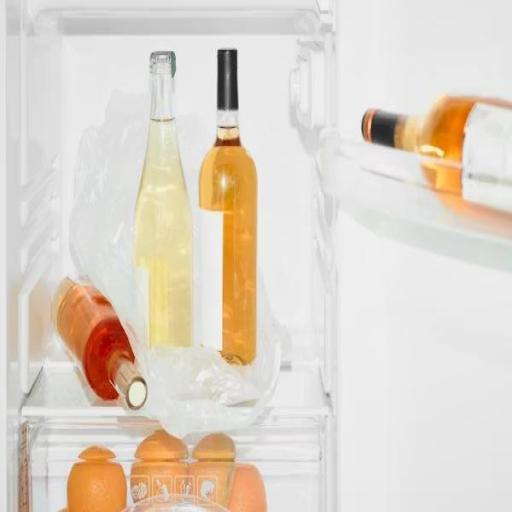bottle: (357, 88, 512, 258), (126, 44, 200, 364), (194, 40, 260, 390), (40, 266, 150, 428)
